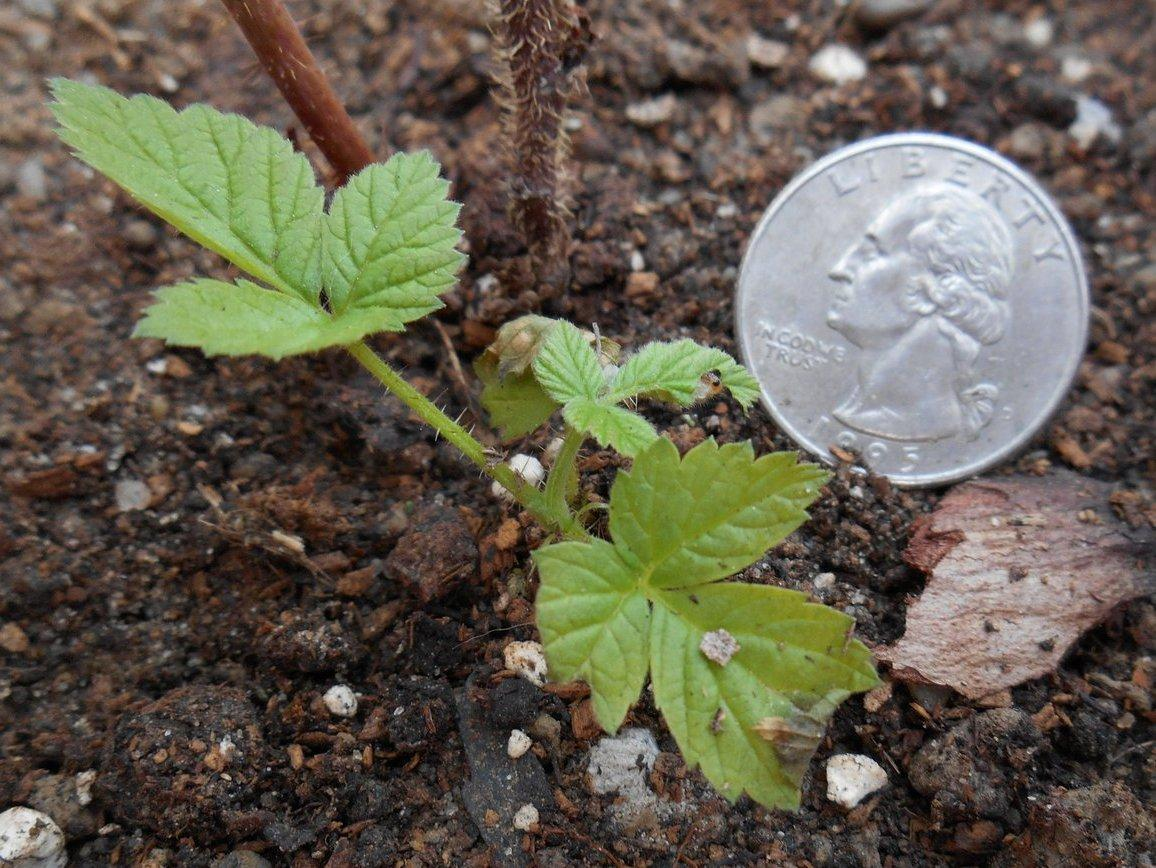Raspberry leaf: (47, 75, 338, 298), (644, 581, 901, 819), (601, 436, 822, 588), (508, 547, 664, 715), (332, 133, 467, 326), (130, 277, 377, 354)
